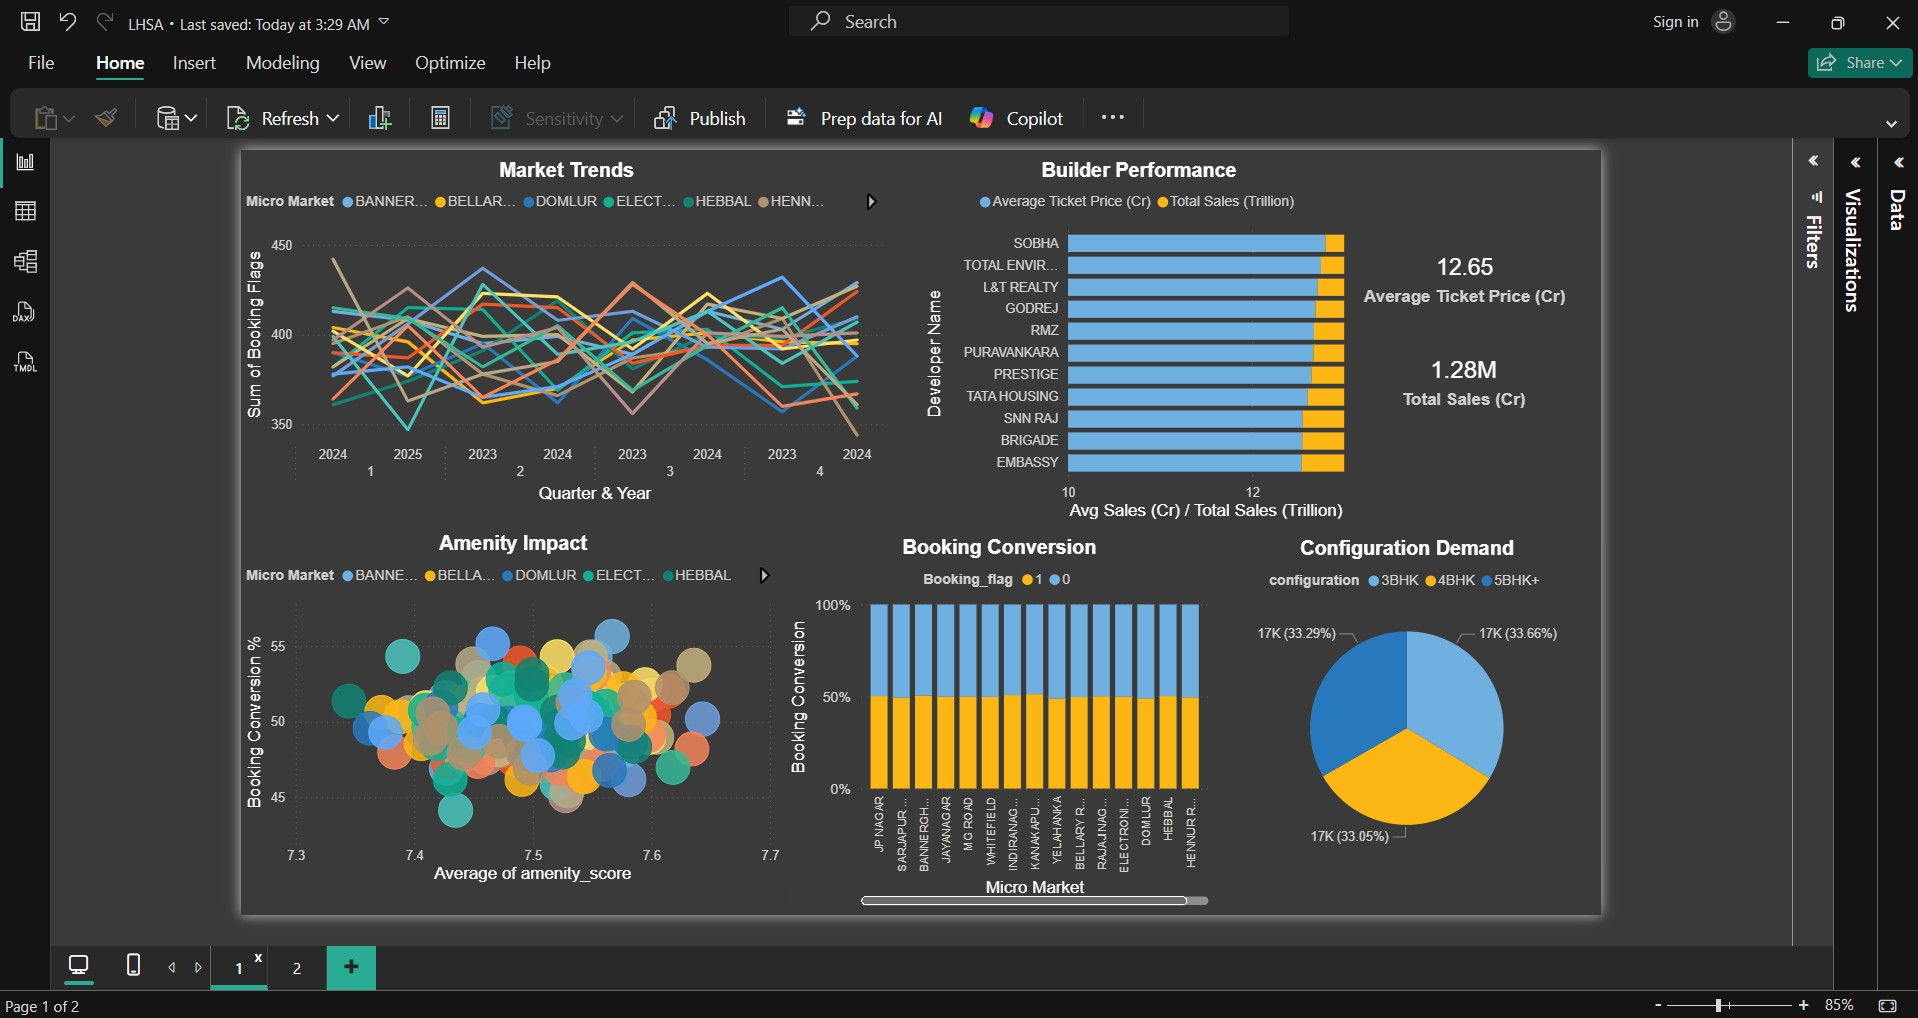

This screenshot's page, from the dashboard's own definition file:
{"tool":"powerbi","page":{"name":"1","canvas":[1280,720],"ordinal":0},"visuals":[{"type":"group","id":"g1","title":"Group 1","box":[640,8.6,612.9,344.3],"z":0},{"type":"barChart","title":"Builder Performance","fields":{"Category":["public luxury_housing_cleaned.Developer Name"],"Y":["public luxury_housing_cleaned.Average Ticket Price (Cr)","public luxury_housing_cleaned.Total Sales (Trillion)"]},"box":[640,8.6,410.5,344.6],"z":0,"group":"g1"},{"type":"lineChart","title":"Market Trends","fields":{"Category":["public luxury_housing_cleaned.quarter_number","public luxury_housing_cleaned.Year"],"Y":["Sum(public luxury_housing_cleaned.booking_flag)"],"Series":["public luxury_housing_cleaned.Micro Market"]},"box":[0,8.7,613.3,328.4],"z":1000},{"type":"card","fields":{"Values":["public luxury_housing_cleaned.Total Sales (Cr)"]},"box":[1079.1,170.7,144.3,90.8],"z":1000,"group":"g1"},{"type":"card","fields":{"Values":["public luxury_housing_cleaned.Average Ticket Price (Cr)"]},"box":[1050.4,74.1,202.6,90.8],"z":2000,"group":"g1"},{"type":"hundredPercentStackedColumnChart","title":"Booking Conversion","fields":{"Category":["public luxury_housing_cleaned.Micro Market"],"Series":["public luxury_housing_cleaned.booking_flag"],"Y":["CountNonNull(public luxury_housing_cleaned.property_id)"]},"box":[512,364,404,352],"z":2000},{"type":"pieChart","title":"Configuration Demand","fields":{"Series":["public luxury_housing_cleaned.configuration"],"Y":["Sum(public luxury_housing_cleaned.booking_flag)"]},"box":[915.7,364.3,364.3,308.6],"z":3000},{"type":"scatterChart","title":"Amenity Impact","fields":{"X":["public luxury_housing_cleaned.amenity_score"],"Y":["public luxury_housing_cleaned.Booking Conversion %"],"Size":["public luxury_housing_cleaned.Project Count"],"Series":["public luxury_housing_cleaned.Micro Market"],"Category":["public luxury_housing_cleaned.Developer Name"]},"box":[0,360,512,334.7],"z":3001}]}

Visuals, with their boxes on the page's 1280x720 design canvas (x1, y1, x2, y2). These are canvas units, not pixel positions in the 1918x1018 screenshot, which may show the page scaled, cropped or inside an application window:
"Group 1" group: <region>640, 9, 1253, 353</region>
"Builder Performance" barChart: <region>640, 9, 1050, 353</region>
"Market Trends" lineChart: <region>0, 9, 613, 337</region>
card - public luxury_housing_cleaned.Total Sales (Cr): <region>1079, 171, 1223, 262</region>
card - public luxury_housing_cleaned.Average Ticket Price (Cr): <region>1050, 74, 1253, 165</region>
"Booking Conversion" hundredPercentStackedColumnChart: <region>512, 364, 916, 716</region>
"Configuration Demand" pieChart: <region>916, 364, 1280, 673</region>
"Amenity Impact" scatterChart: <region>0, 360, 512, 695</region>
